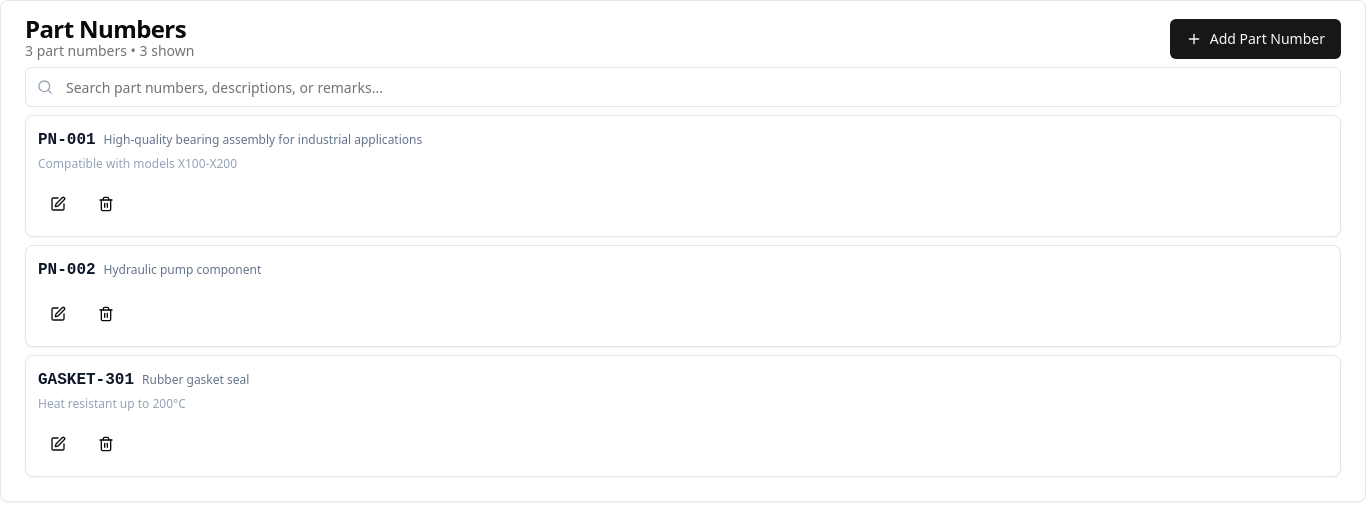
Test: PartNumbersList › filters part numbers by remarks
Type "Heat resistant" into the field with placeholder "Search part numbers, descriptions, or remarks..." at [683, 87], box [25,67,1341,107]
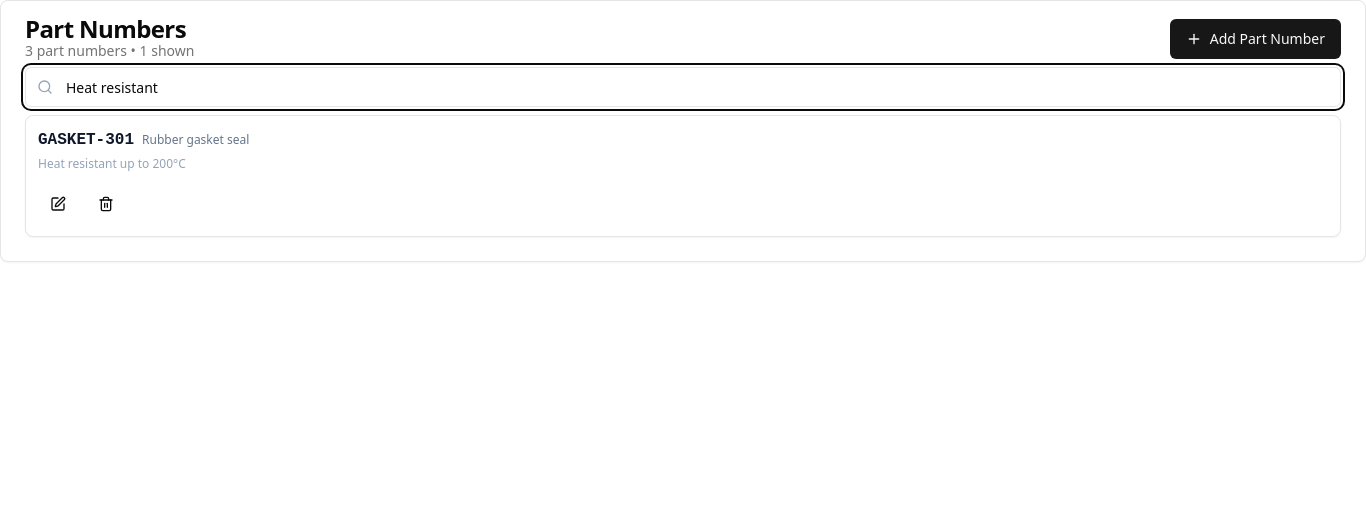
Expected: the text "GASKET-301" is shown, [38,128,134,152]
Expected: the text "PN-001" is gone
Expected: the text "PN-002" is gone
